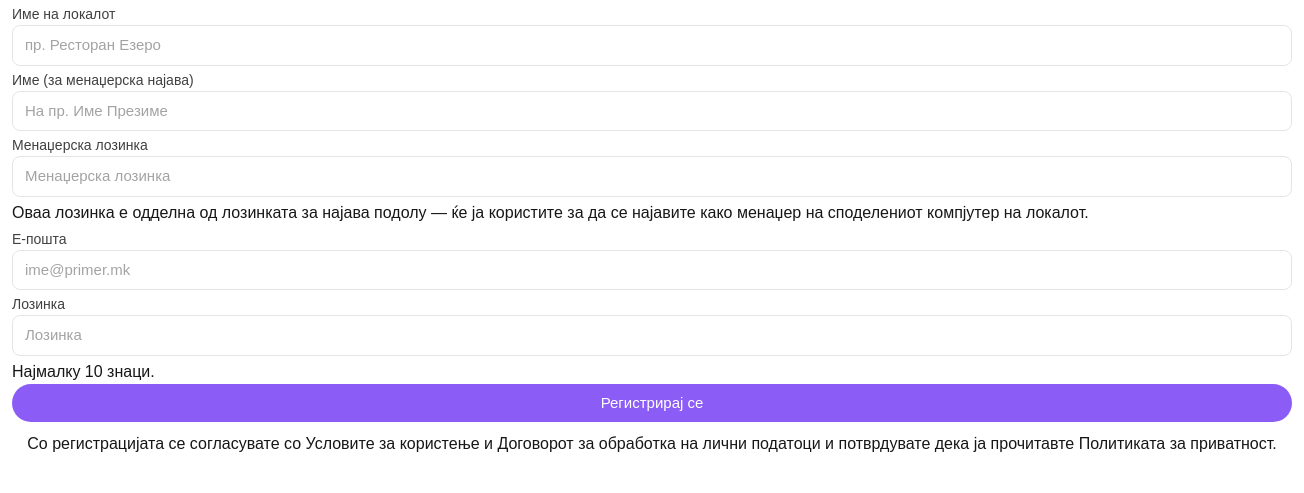
Test: SignupForm › says the email is taken instead of promising a confirmation email (Supabase returns a user without identities)
Step 1. Type "Демо Локал" into the field labelled "Име на локалот" → coordinates (652, 45), box 12,25 -> 1292,66
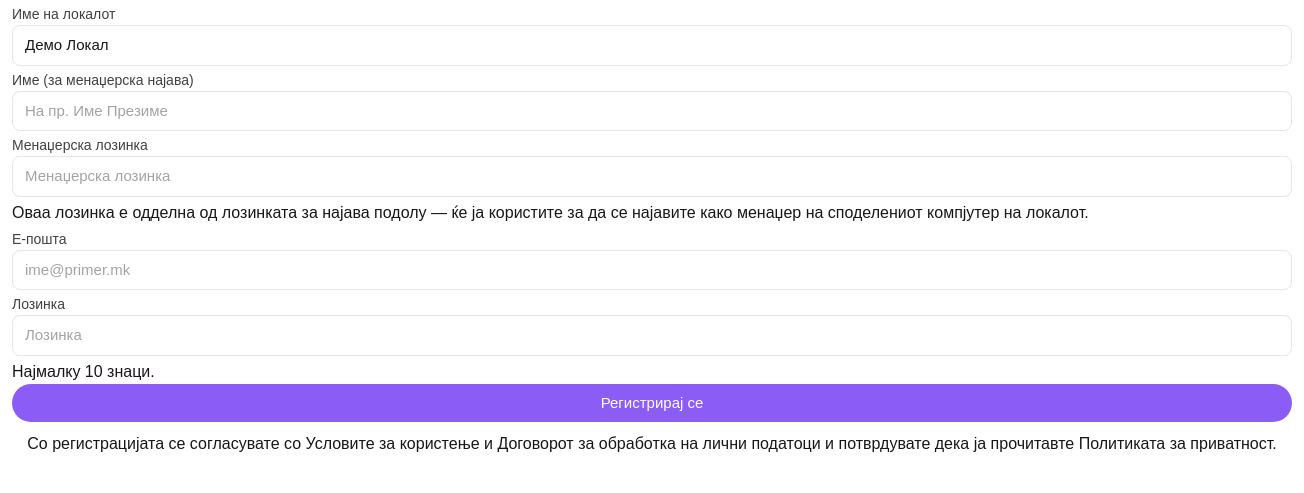
Step 2. Type "Марко Марковски" into the field labelled "Име (за менаџерска најава)" → coordinates (652, 111), box 12,90 -> 1292,131
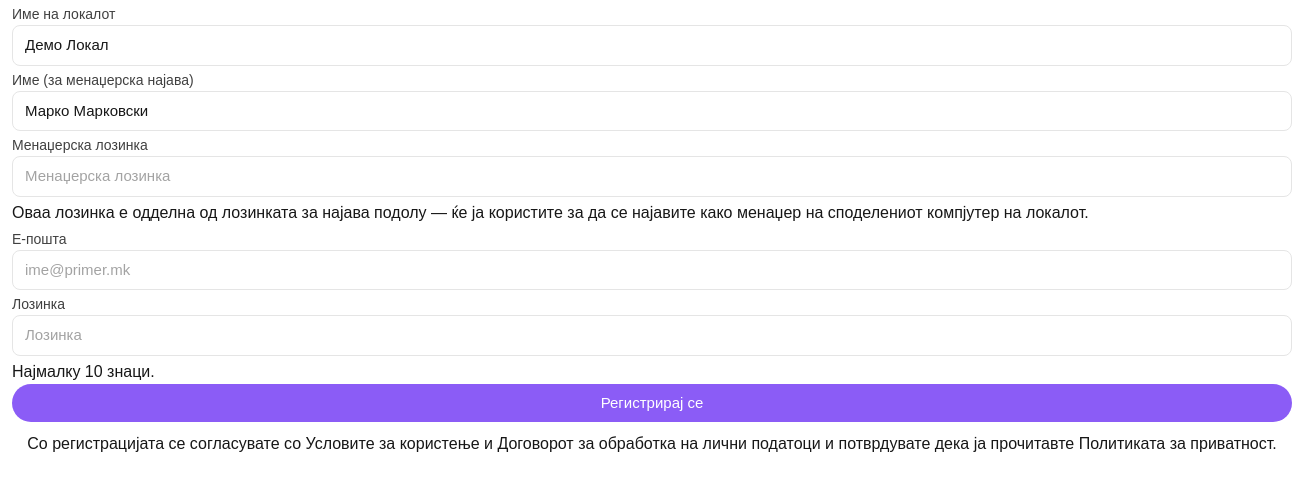
Step 3. Type "manager-pass-123" into the password field labelled "Менаџерска лозинка" → coordinates (652, 176), box 12,156 -> 1292,196
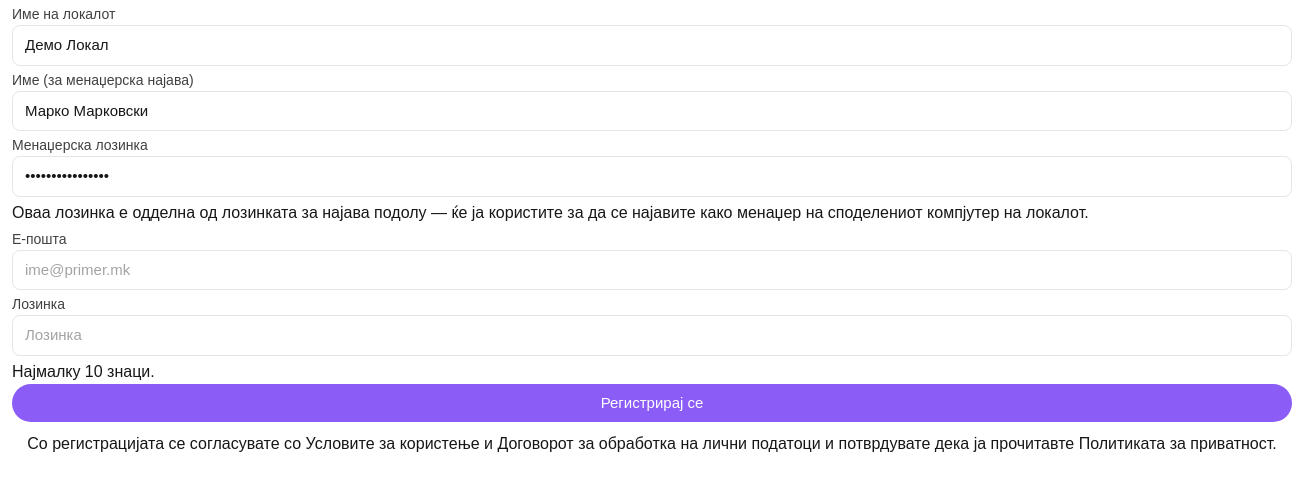
Step 4. Type "owner@example.com" into the field labelled "Е-пошта" → coordinates (652, 270), box 12,250 -> 1292,290
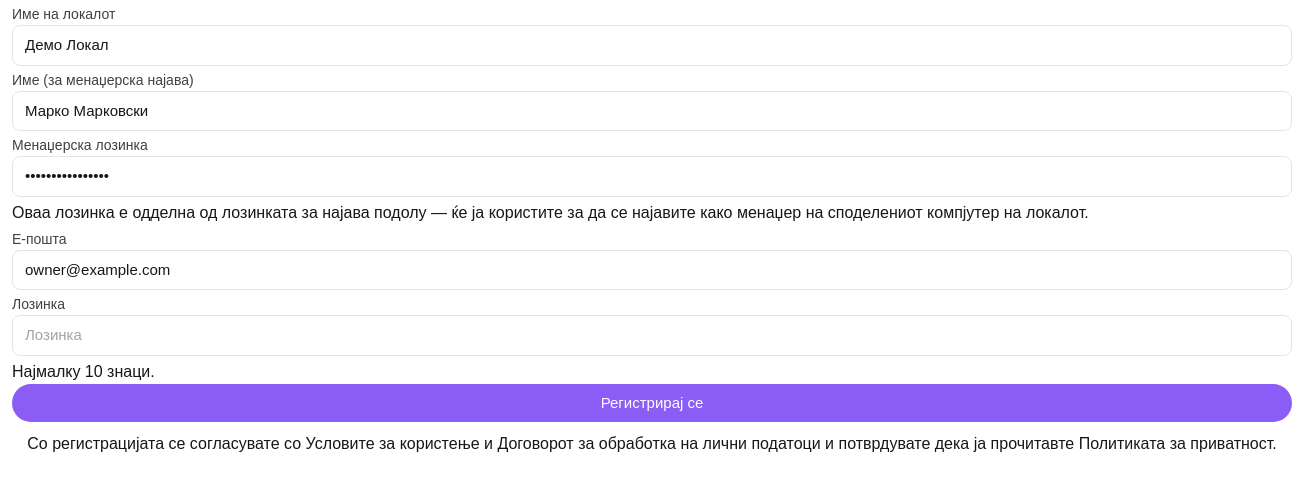
Step 5. Type "strong-password-123" into the password field labelled "Лозинка" → coordinates (652, 335), box 12,315 -> 1292,356
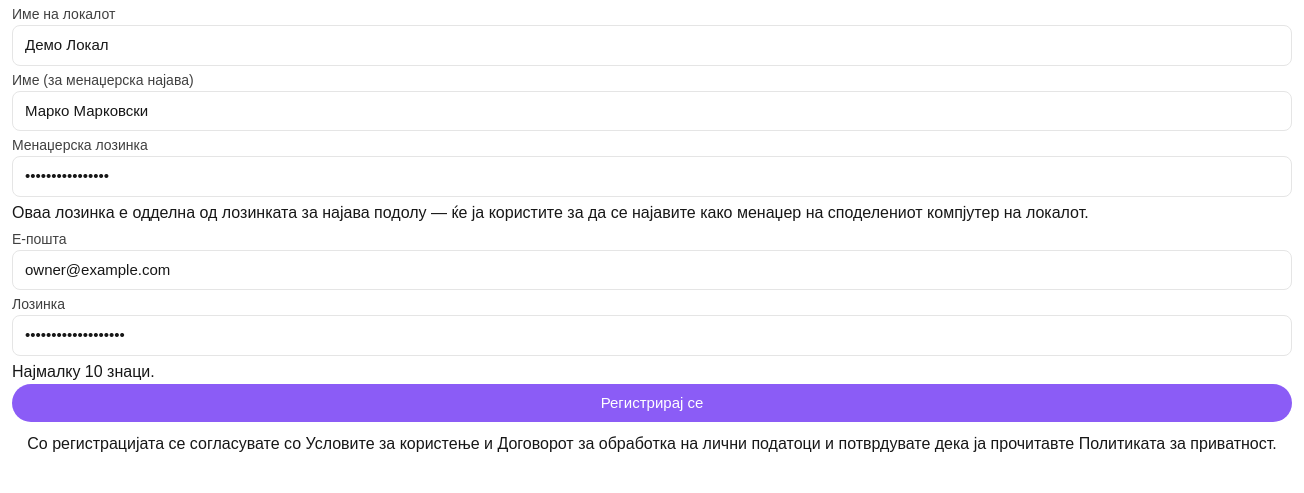
Step 6. Click the button "Регистрирај се" → coordinates (652, 403), box 12,384 -> 1292,422
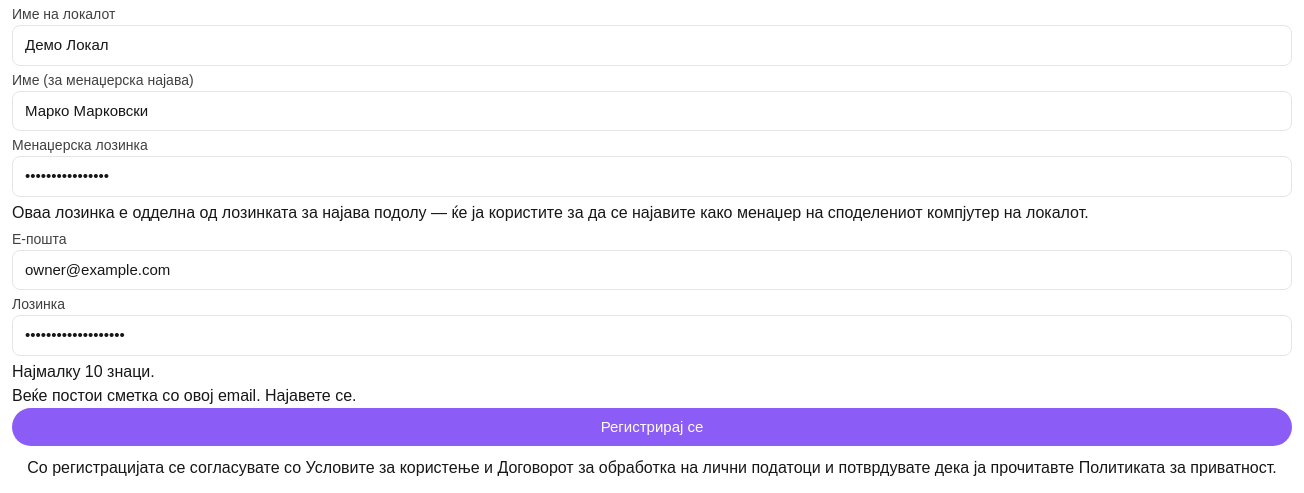
Expected: the button "Регистрирај се" is shown, 12,408 -> 1292,446
Now the text "Веќе постои сметка со овој email. Најавете се." is shown, box 12,386 -> 356,404
